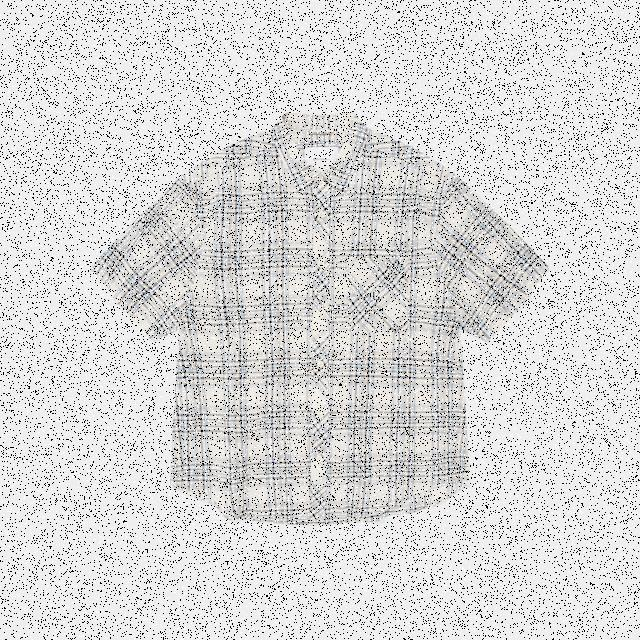dress: (91, 103, 548, 536)
